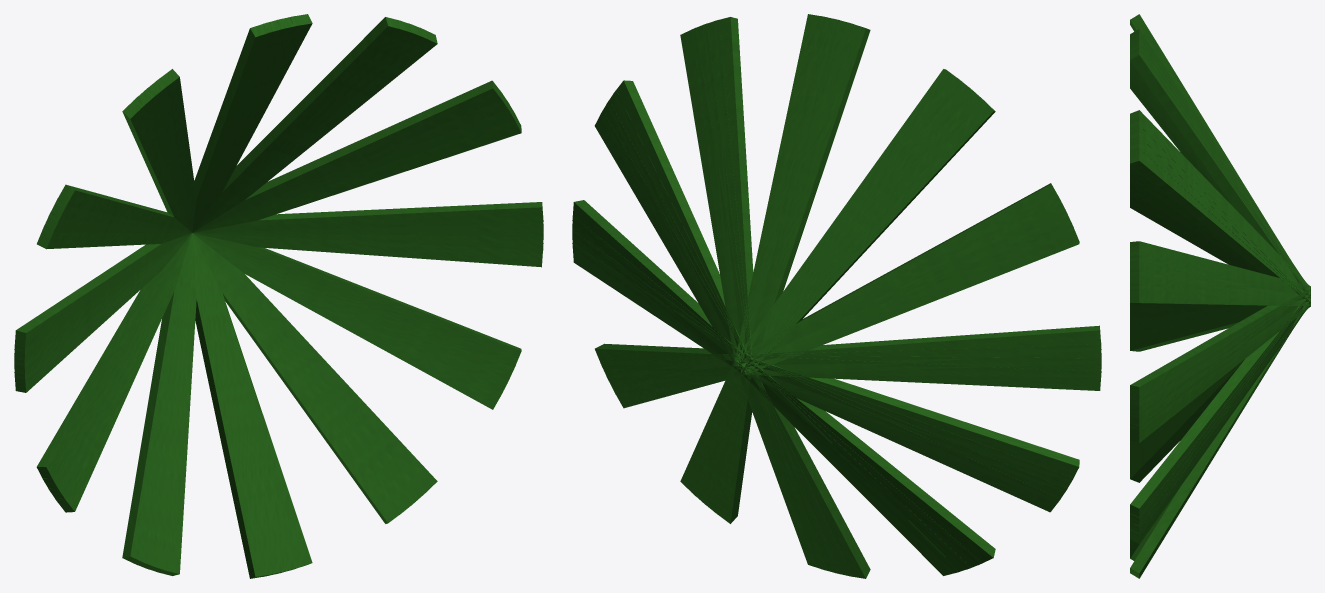
Rendered from paproc_r0_01.glb.
3 renders of one model, left to right at view 1: azimuth 30°, elevation 25°; view 2: azimuth 150°, elevation 25°; view 3: azimuth 270°, elevation 25°, orthographic. The views are drawn at different scales.
Parts seen in each view (by area): view 1: frond_9_0, frond_0_3, frond_1_3, frond_8_0, frond_10_0, frond_11_3, frond_11_0, frond_2_3, frond_10_3, frond_7_0, frond_0_0, frond_9_3 (+36 smaller); view 2: frond_3_3, frond_6_0, frond_7_0, frond_2_3, frond_4_3, frond_5_0, frond_8_0, frond_1_3, frond_5_3, frond_4_0, frond_6_3, frond_3_0 (+36 smaller); view 3: frond_11_3, frond_3_0, frond_2_0, frond_0_3, frond_10_3, frond_1_0, frond_1_3, frond_8_3, frond_7_3, frond_0_0, frond_1_1, frond_1_2 (+24 smaller).
Part boxes in pixels (bbox=[...]): frond_9_0: bbox=[192, 234, 272, 578]; frond_0_3: bbox=[193, 202, 543, 232]; frond_1_3: bbox=[193, 80, 503, 232]; frond_8_0: bbox=[122, 234, 191, 564]; frond_10_0: bbox=[193, 234, 401, 523]; frond_11_3: bbox=[193, 233, 521, 367]; frond_11_0: bbox=[193, 233, 501, 409]; frond_2_3: bbox=[193, 17, 404, 231]; frond_10_3: bbox=[193, 234, 437, 493]; frond_7_0: bbox=[36, 234, 191, 482]; frond_0_0: bbox=[193, 233, 543, 267]; frond_9_3: bbox=[192, 234, 312, 570]; frond_3_3: bbox=[735, 22, 870, 364]; frond_6_0: bbox=[746, 325, 1101, 374]; frond_7_0: bbox=[742, 358, 1079, 482]; frond_2_3: bbox=[714, 17, 753, 363]; frond_4_3: bbox=[738, 97, 995, 369]; frond_5_0: bbox=[742, 183, 1061, 372]; frond_8_0: bbox=[738, 363, 995, 564]; frond_1_3: bbox=[613, 80, 747, 368]; frond_5_3: bbox=[743, 223, 1079, 372]; frond_4_0: bbox=[737, 69, 962, 367]; frond_6_3: bbox=[746, 355, 1101, 390]; frond_3_0: bbox=[735, 14, 826, 362]; frond_11_3: bbox=[1130, 292, 1310, 520]; frond_3_0: bbox=[1130, 45, 1310, 298]; frond_2_0: bbox=[1130, 144, 1310, 303]; frond_0_3: bbox=[1130, 288, 1310, 405]; frond_10_3: bbox=[1130, 298, 1310, 576]; frond_1_0: bbox=[1130, 283, 1310, 306]; frond_1_3: bbox=[1130, 241, 1310, 305]; frond_8_3: bbox=[1130, 306, 1310, 482]; frond_7_3: bbox=[1130, 305, 1267, 351]; frond_0_0: bbox=[1130, 289, 1310, 443]; frond_1_1: bbox=[1130, 269, 1310, 305]; frond_1_2: bbox=[1130, 255, 1310, 305].
Size of the model in its own units: 1.29 by 1.29 by 0.4133.
1 material, 1 textured.
